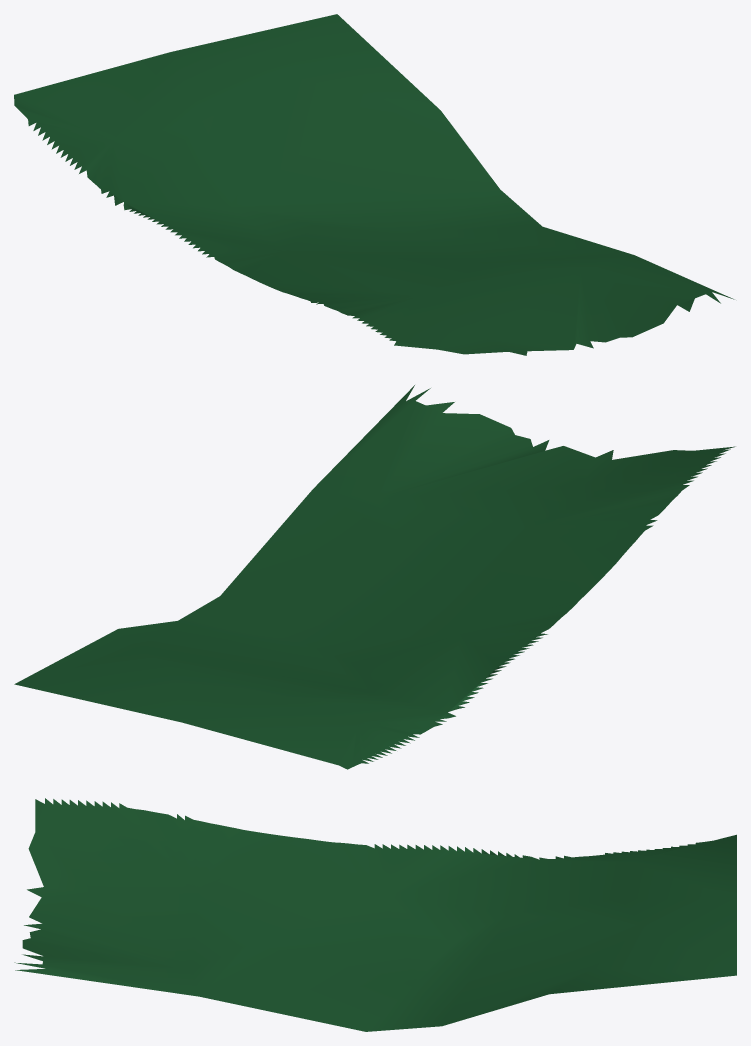
File: payo_land_xm5_y3_lod2.glb
The picture shows the model from 3 angles, top to bottom: view 1: azimuth 30°, elevation 25°; view 2: azimuth 150°, elevation 25°; view 3: azimuth 270°, elevation 25°; orthographic projection. The views are drawn at different scales.
Parts seen in each view (by area): view 1: payo_land_xm5_y3; view 2: payo_land_xm5_y3; view 3: payo_land_xm5_y3.
Part boxes in pixels (x1,y1,x2,y2): payo_land_xm5_y3: (14,14,734,355); payo_land_xm5_y3: (14,385,735,769); payo_land_xm5_y3: (14,798,736,1031).
Bounding box in the file's own units: 126 × 35.27 × 263.
